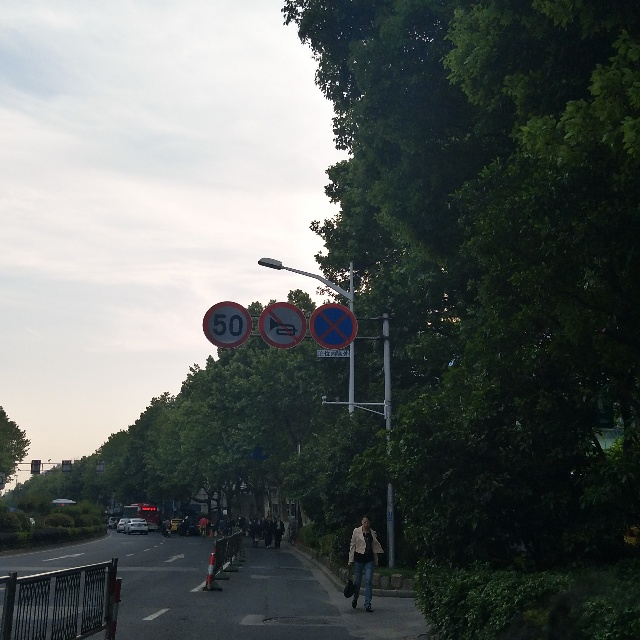nohonk: (259, 302, 307, 348)
stop: (309, 303, 357, 349)
